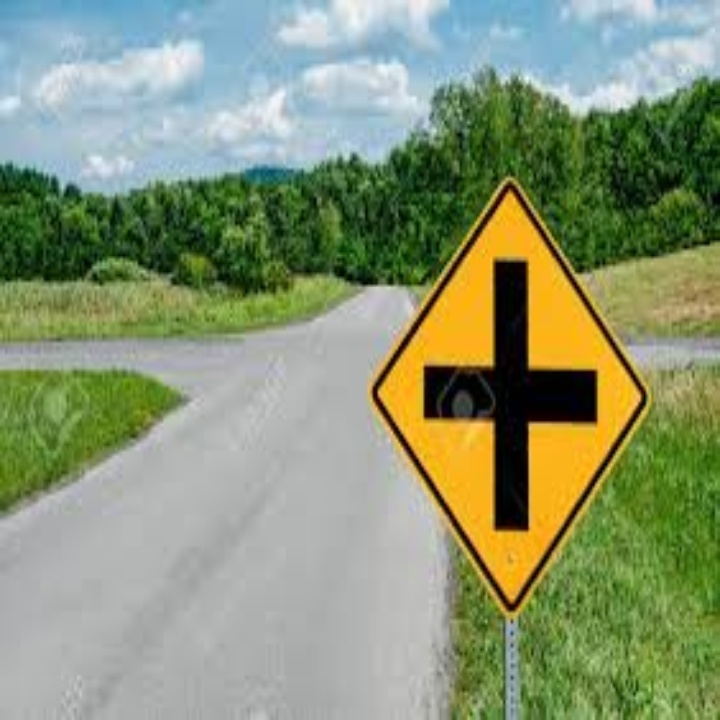inter: (416, 249, 614, 535)
